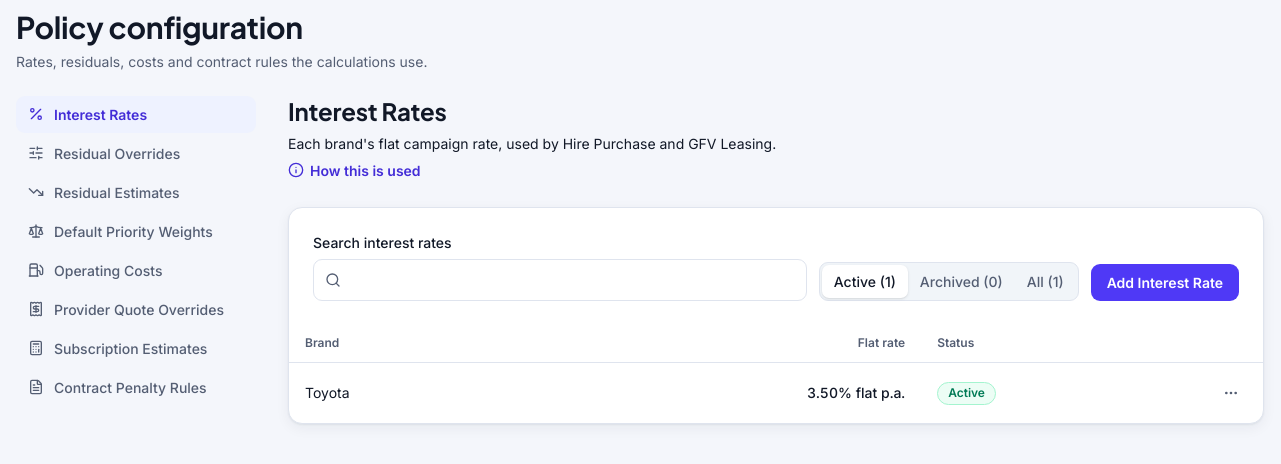
AdminPolicyPage › switches to the Contract Penalty Rules tab and lists its own section
The width and height of the screenshot is (1281, 464).
Expected: the text "3.50% flat p.a." is shown, [523,362,921,423]
Click the tab "Contract Penalty Rules".
click(136, 387)  # box [16,368,256,406]
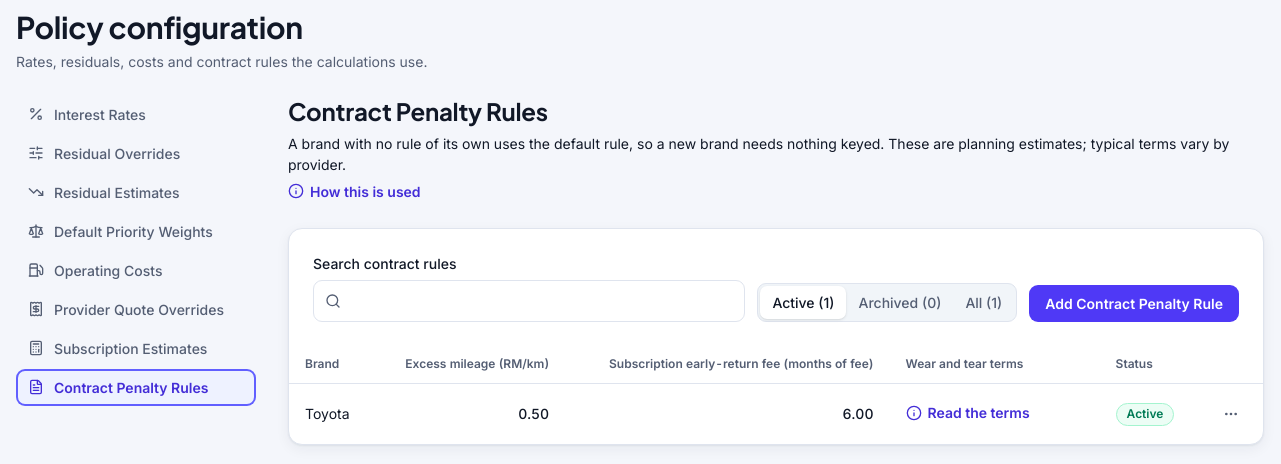
Now the text "0.50" is shown, box [373,384,565,444]
Now the text "6.00" is shown, box [565,384,890,444]
